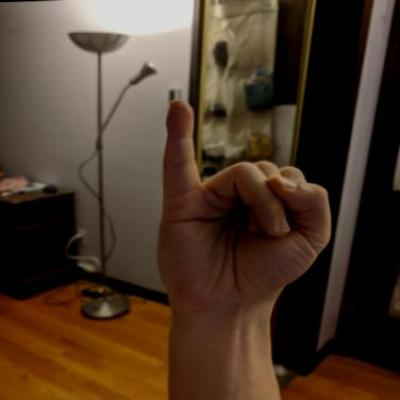hand: (150, 89, 341, 321)
